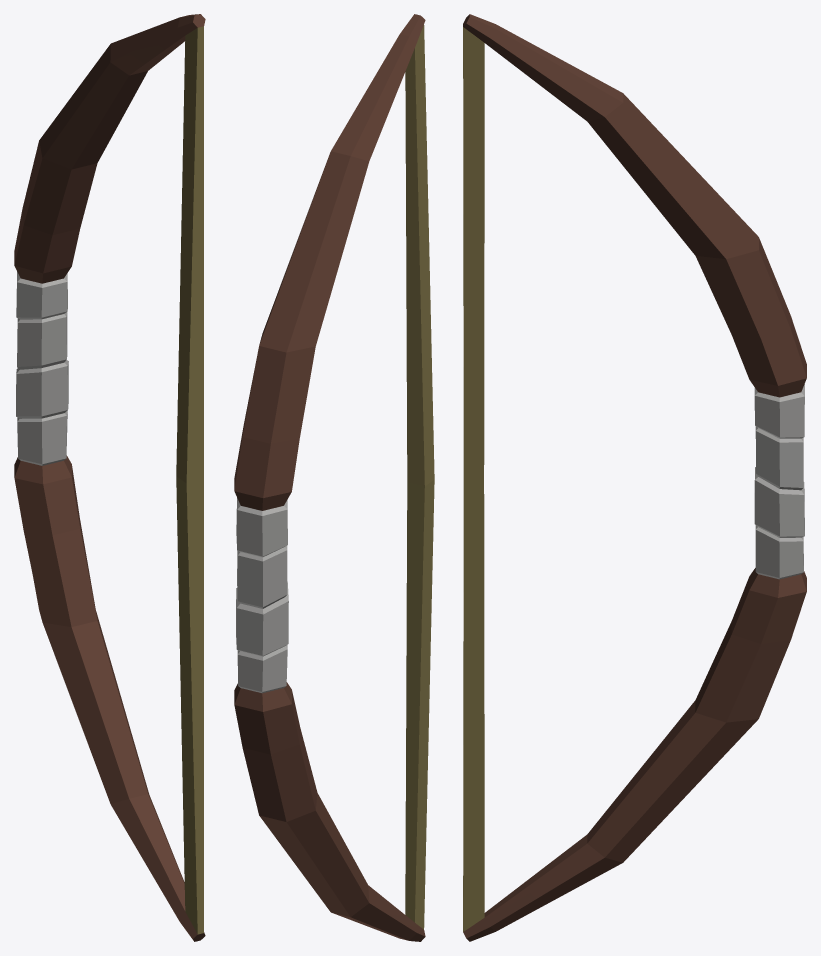
The model's file is Bow.fbx.
3 views of the same model, side by side, from view 1: azimuth 30°, elevation 25°; view 2: azimuth 150°, elevation 25°; view 3: azimuth 270°, elevation 25° (orthographic).
Visible parts, largest first — view 1: Bow; view 2: Bow; view 3: Bow.
Boxes of the visible parts, <box> form: Bow: <box>14,14,205,941</box>; Bow: <box>234,14,434,941</box>; Bow: <box>463,14,806,941</box>.
Size of the model in its own units: 0.332 by 5.12 by 1.72.
